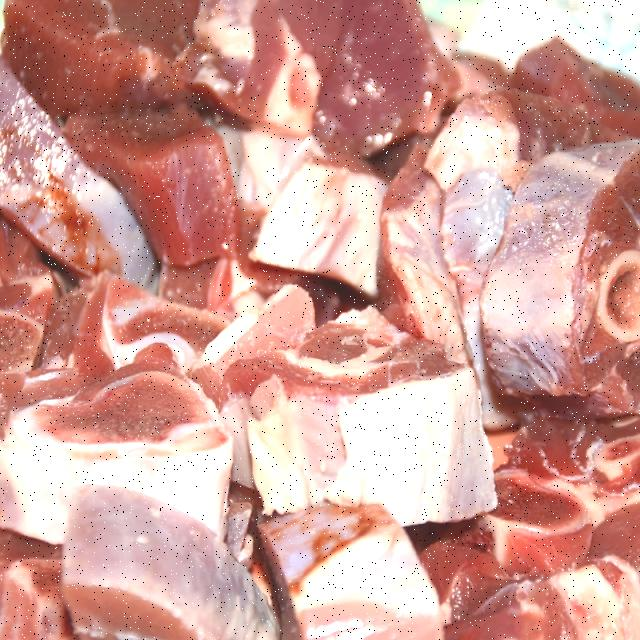Mutton: (21, 0, 640, 616)
